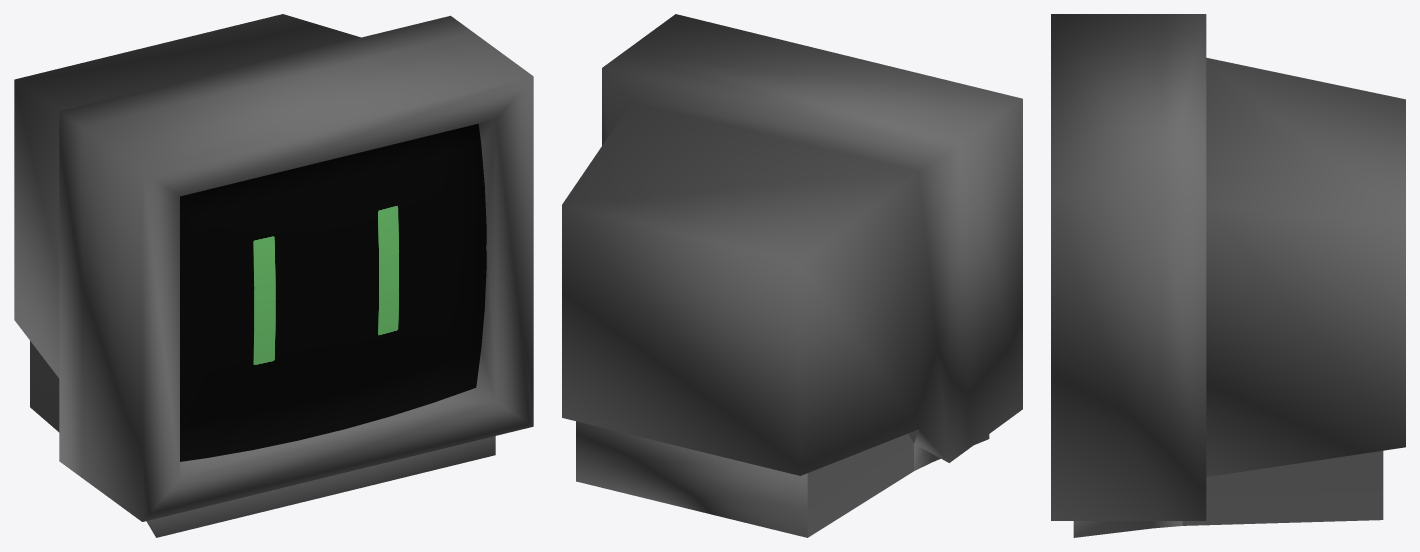
Rendered from crt-head.glb.
3 views of the same model, side by side, from view 1: azimuth 30°, elevation 25°; view 2: azimuth 150°, elevation 25°; view 3: azimuth 270°, elevation 25° (orthographic). The views are drawn at different scales.
Parts seen in each view (by area): view 1: Head; view 2: Head; view 3: Head.
Part boxes in pixels (x1=…): Head: x1=14, y1=14, x2=533, y2=537; Head: x1=562, y1=14, x2=1022, y2=537; Head: x1=1051, y1=14, x2=1405, y2=537.
Size of the model in its own units: 1.05 by 0.9764 by 0.8792.
2 materials, 1 textured.
